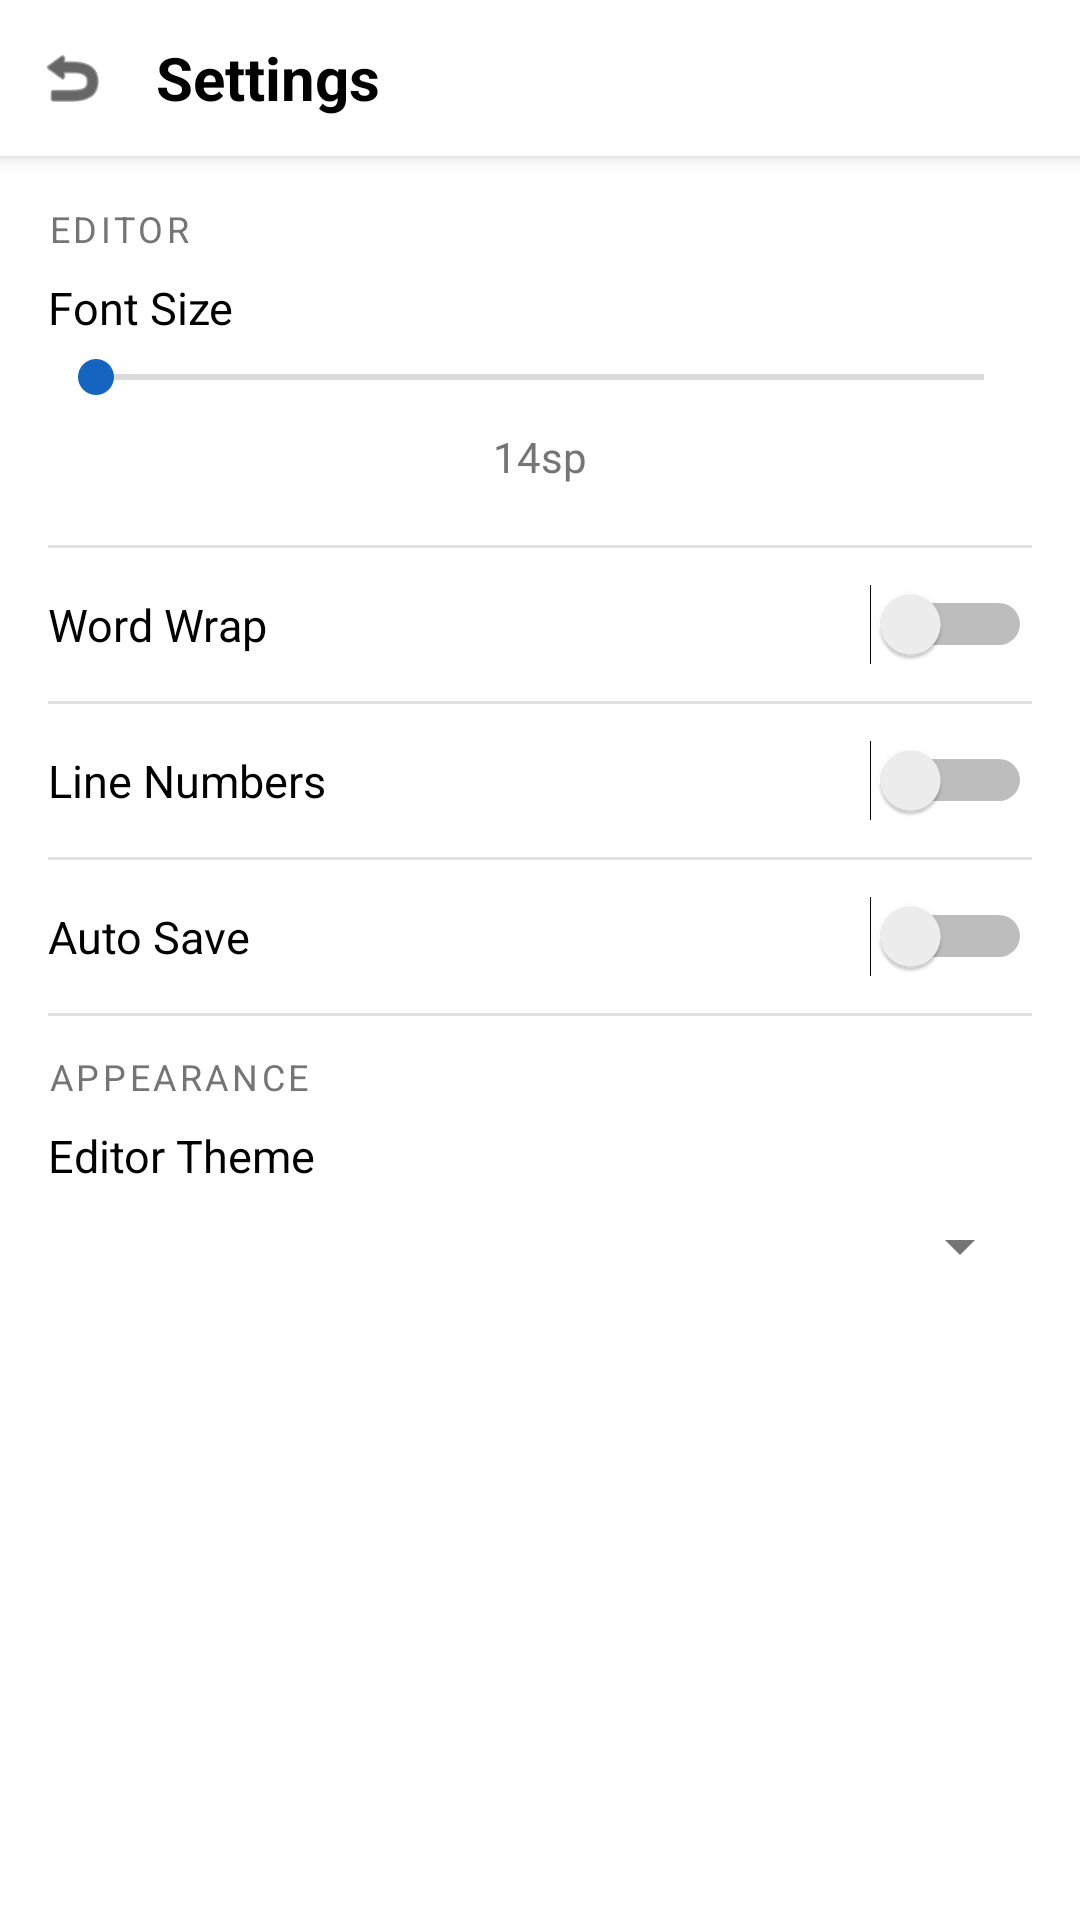

Screen size 1080 × 1920. Icon name, then its box in pixels as rect(x1, y1, x2, y2):
Back: rect(47, 55, 99, 102)
